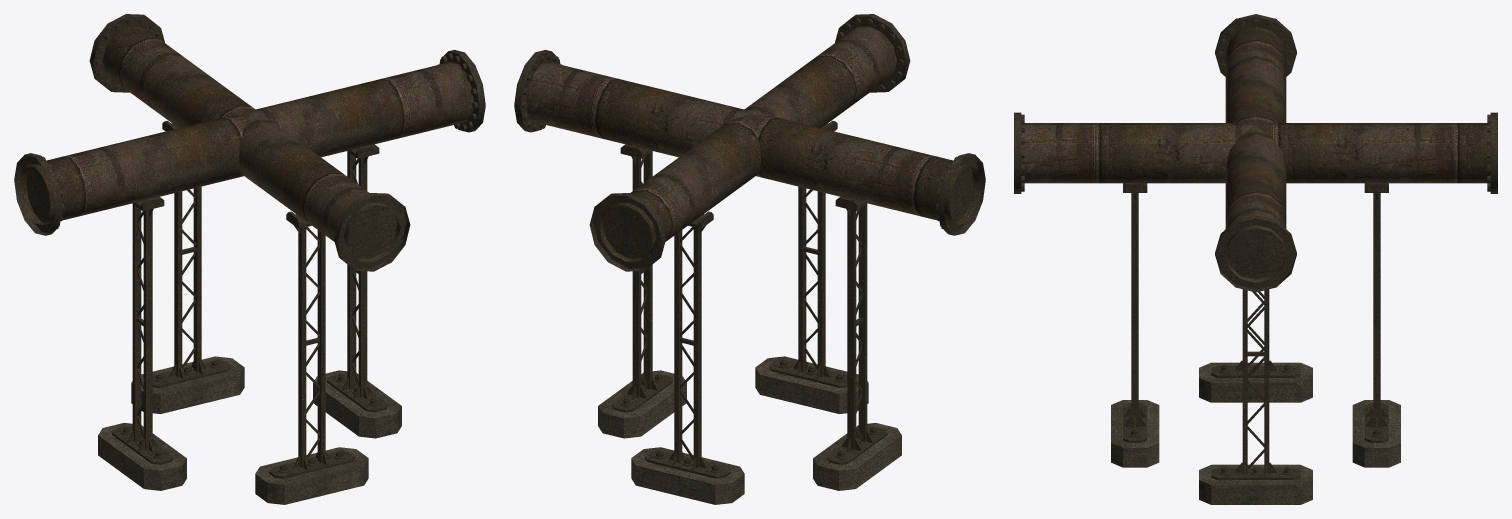
Rendered from pipe_cx_2.glb.
3 renders of one model, left to right at view 1: azimuth 30°, elevation 25°; view 2: azimuth 150°, elevation 25°; view 3: azimuth 270°, elevation 25°, orthographic. The views are drawn at different scales.
Visible parts, largest first — view 1: pipe_cx_2; view 2: pipe_cx_2; view 3: pipe_cx_2.
Part boxes in pixels (x1=…): pipe_cx_2: x1=14, y1=14, x2=485, y2=504; pipe_cx_2: x1=514, y1=14, x2=985, y2=504; pipe_cx_2: x1=1014, y1=14, x2=1497, y2=504.
Bounding box in the file's own units: 4 × 2.99 × 4.
3 materials, 3 textured.
